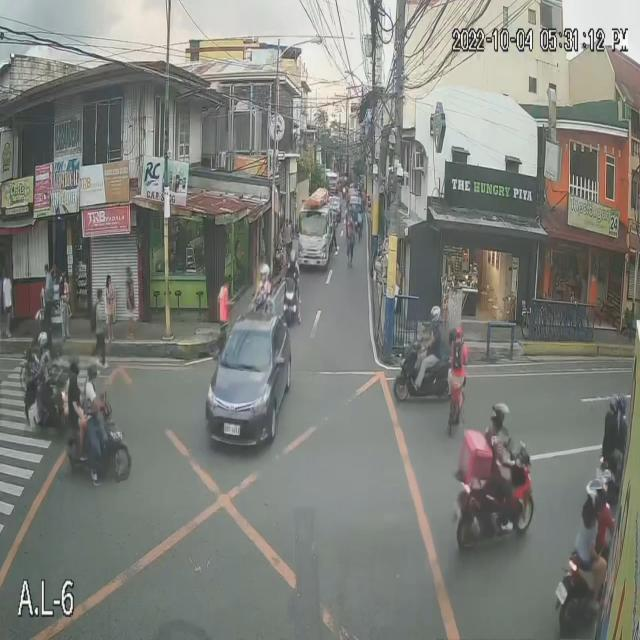Full-Faced: (583, 476, 601, 514), (491, 400, 509, 430), (454, 328, 467, 358), (602, 455, 611, 496), (254, 262, 269, 286), (602, 392, 614, 420), (84, 362, 100, 382), (70, 353, 83, 375), (38, 331, 50, 350), (286, 247, 297, 267), (615, 397, 622, 428)
